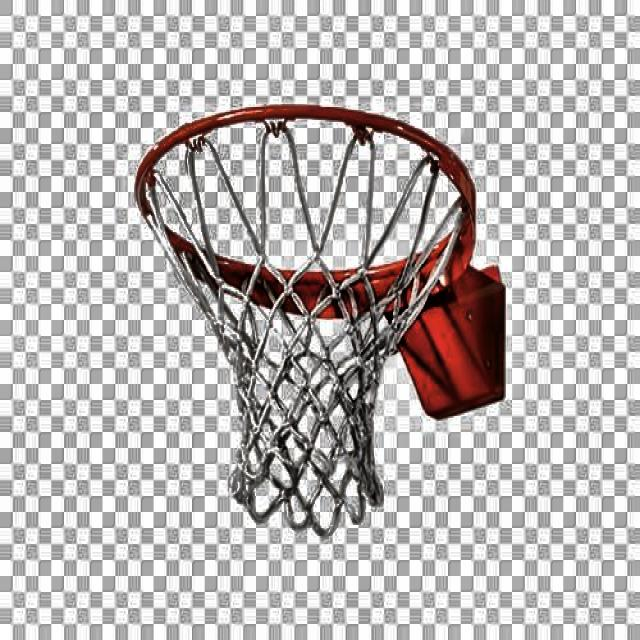rim: (135, 99, 478, 539)
